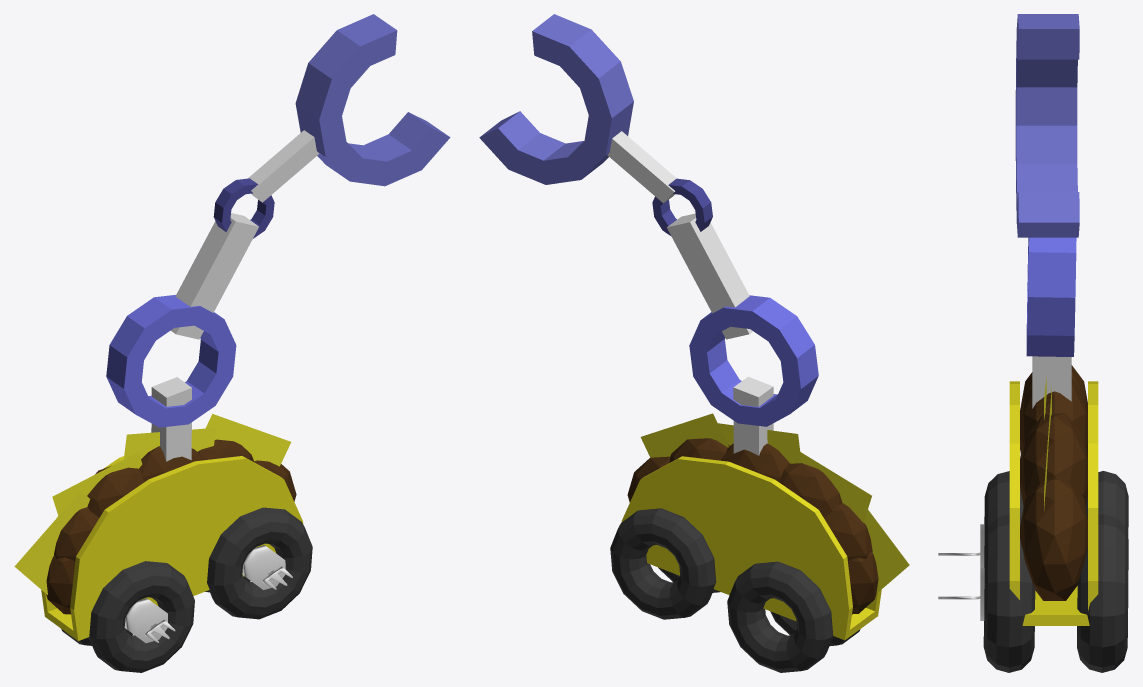
File: tacocar1.glb
The picture shows the model from 3 angles, left to right: view 1: azimuth 30°, elevation 25°; view 2: azimuth 150°, elevation 25°; view 3: azimuth 270°, elevation 25°; orthographic projection. The views are drawn at different scales.
Visible parts, largest first — view 1: Cube.030, Cube.029, Torus.004, Torus.005, Icosphere.002, Plane.099, Plane.096, Cylinder.009, Cylinder.008, Plane.097, Plane.098; view 2: Cube.030, Cube.029, Torus.006, Torus.007, Icosphere.002, Plane.096, Plane.099, Plane.098, Plane.097; view 3: Cube.030, Icosphere.002, Cube.029, Torus.007, Torus.005, Torus.006, Torus.004, Cylinder.009, Cylinder.008.
Boxes of the visible parts, x1,y1,x2,y2 form: Cube.030: (106, 14, 450, 461); Cube.029: (41, 456, 303, 640); Torus.004: (89, 561, 194, 672); Torus.005: (207, 507, 312, 619); Icosphere.002: (46, 439, 296, 614); Plane.099: (14, 491, 90, 614); Plane.096: (205, 414, 291, 466); Cylinder.009: (242, 545, 292, 589); Cylinder.008: (124, 598, 175, 643); Plane.097: (123, 428, 215, 459); Plane.098: (52, 452, 142, 515); Cube.030: (479, 14, 818, 455); Cube.029: (621, 456, 881, 640); Torus.006: (727, 561, 833, 672); Torus.007: (610, 508, 716, 619); Icosphere.002: (627, 438, 878, 614); Plane.096: (640, 413, 728, 457); Plane.099: (852, 510, 909, 614); Plane.098: (800, 452, 871, 522); Plane.097: (718, 423, 801, 463); Cube.030: (1015, 14, 1079, 408); Icosphere.002: (1020, 365, 1087, 600); Cube.029: (1009, 381, 1098, 625); Torus.007: (1077, 514, 1128, 672); Torus.005: (983, 514, 1035, 672); Torus.006: (1085, 471, 1128, 537); Torus.004: (984, 471, 1023, 559); Cylinder.009: (938, 568, 984, 620); Cylinder.008: (938, 524, 984, 567).
Bounding box in the file's own units: 9.71 × 12.58 × 2.85.
